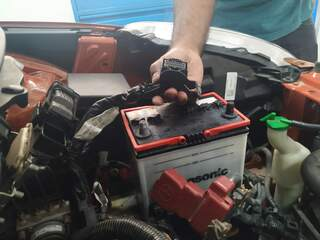connector: (159, 58, 198, 93)
